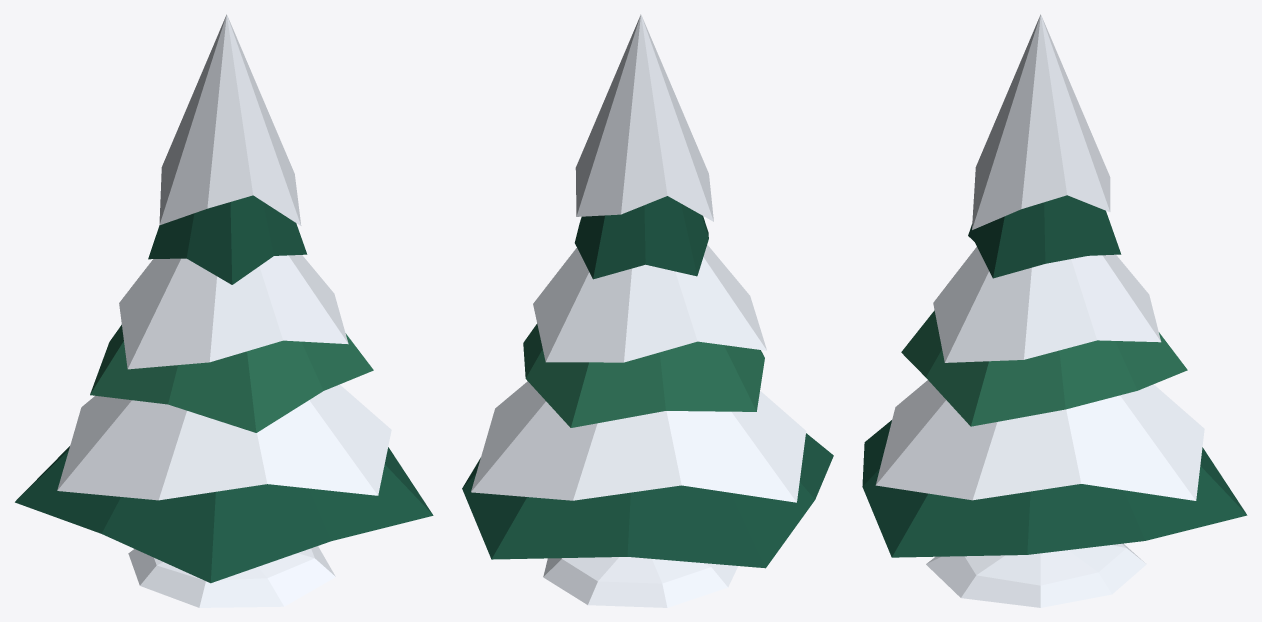
File: snowy_pine_small.glb
3 renders of one model, left to right at view 1: azimuth 30°, elevation 25°; view 2: azimuth 150°, elevation 25°; view 3: azimuth 270°, elevation 25°, orthographic.
Parts seen in each view (by area): view 1: snowy_pine_small; view 2: snowy_pine_small; view 3: snowy_pine_small.
Boxes of the visible parts, x1,y1,x2,y2 form: snowy_pine_small: (15, 14, 433, 607); snowy_pine_small: (462, 14, 833, 607); snowy_pine_small: (862, 14, 1247, 607).
Size of the model in its own units: 1.66 by 2.7 by 1.71.
